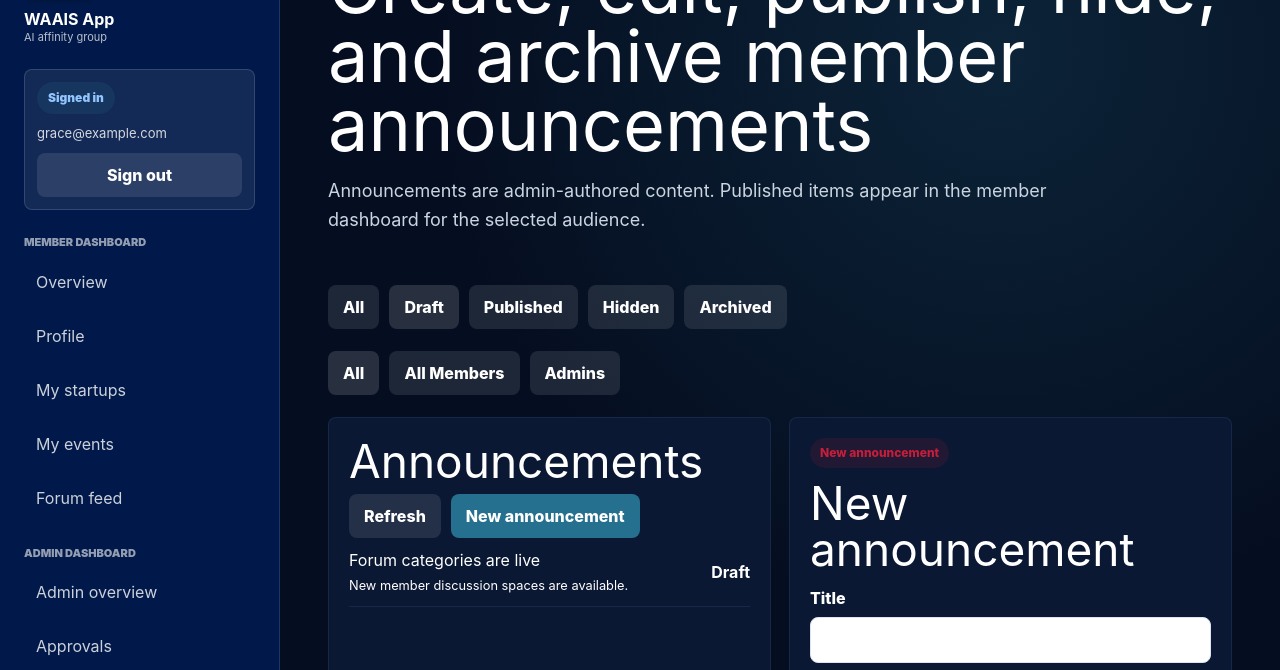
member dashboard live state › renders the admin announcements manager from the admin API
The width and height of the screenshot is (1280, 670).
Click the button with class "table-button": (445, 560) [349,538,750,607]
(page scrolled)
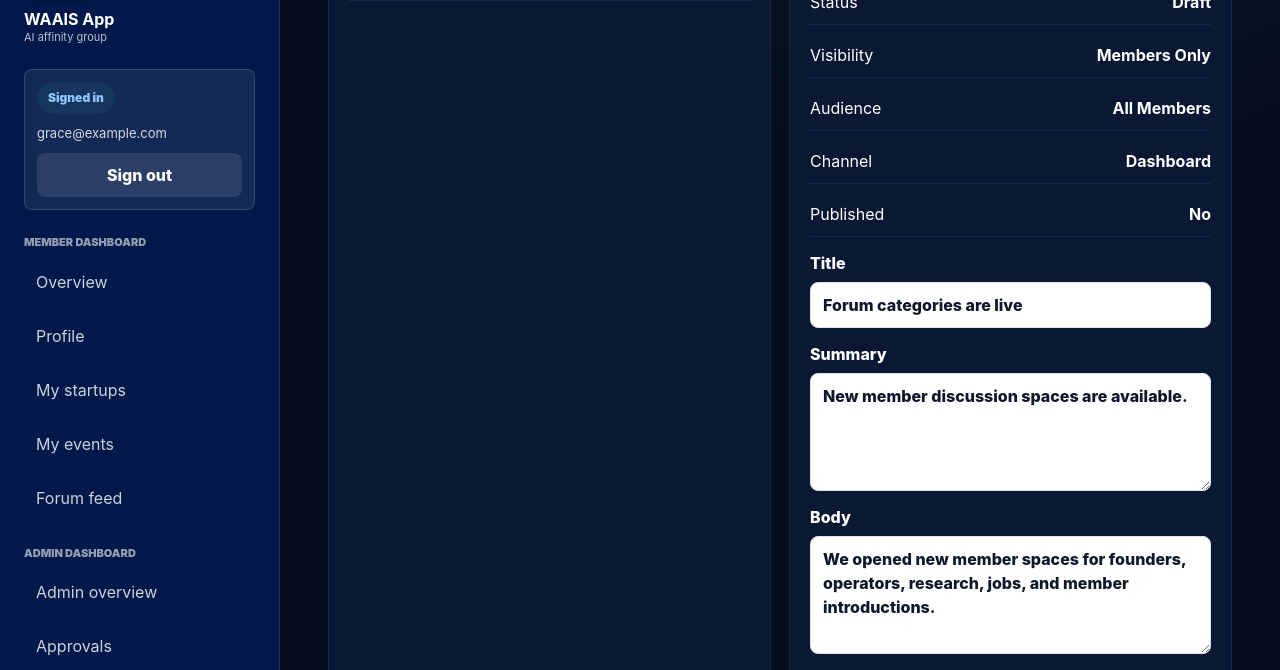
Expected: the field labelled "Title" holds "Forum categories are live", [810,282,1211,328]
